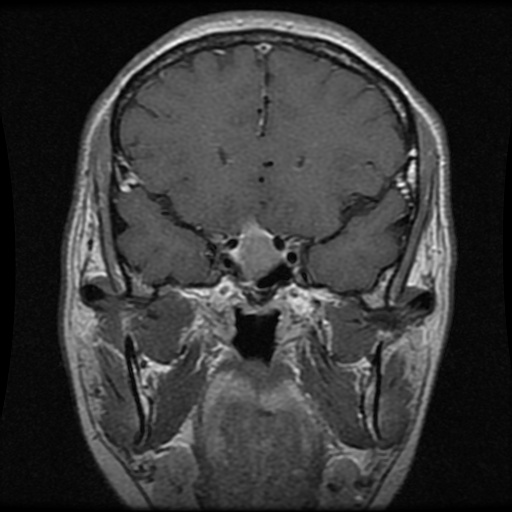pituitary: (229, 219, 287, 280)
